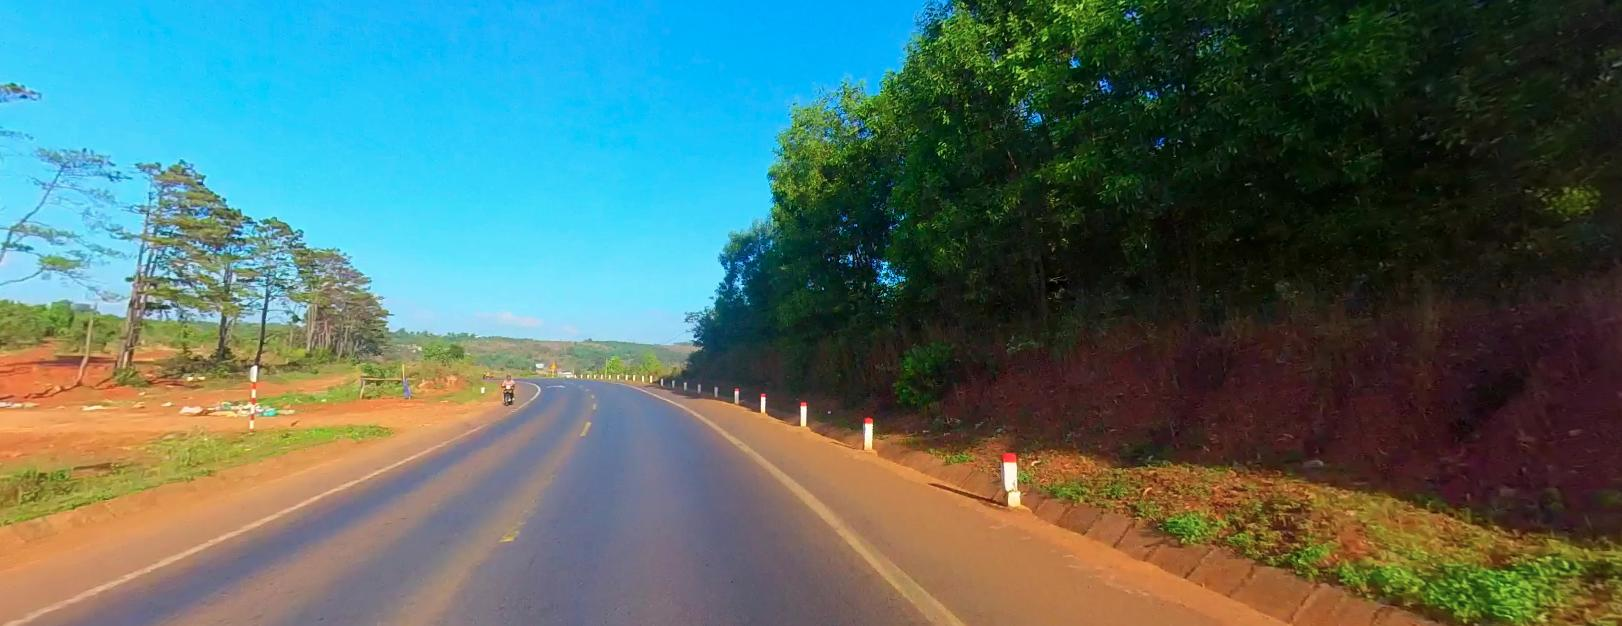Nguy hiem: (550, 361, 555, 366)
